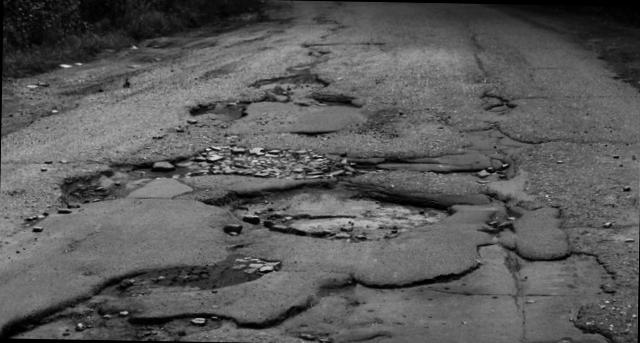Pothole: (276, 232, 612, 343), (0, 247, 263, 342), (214, 176, 439, 252), (180, 59, 355, 133), (70, 138, 220, 218)
